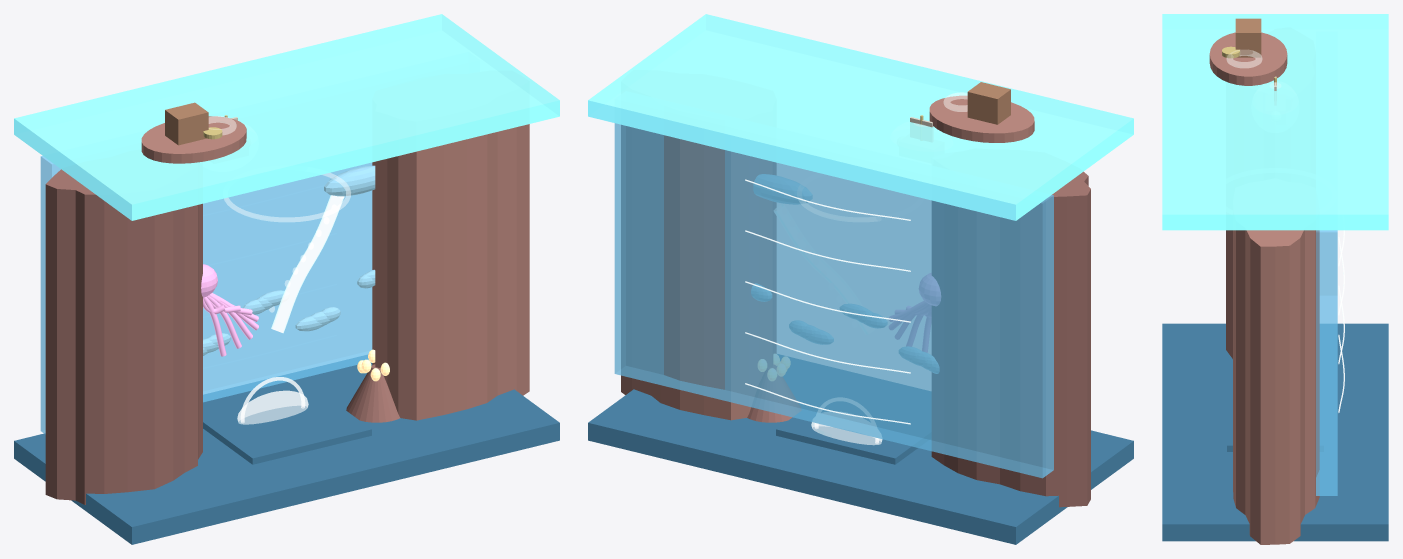
The model's file is fish-man-red-line-descent.glb.
The picture shows the model from 3 angles, left to right: view 1: azimuth 30°, elevation 25°; view 2: azimuth 150°, elevation 25°; view 3: azimuth 270°, elevation 25°; orthographic projection. The views are drawn at different scales.
Visible parts, largest first — view 1: Fish-Man descent surface ocean, Undersea Red Line west wall, Undersea Red Line east wall, Fish-Man descent abyss floor, Fish-Man descent midwater volume, Red Line ten-thousand-meter trench, Sabaody coating yard root platform, Downward plume animated root, Deep-sea volcanic root, Fish-Man Island distant gate, Coating yard tool shed, Undersea light zone whale (+1 smaller); view 2: Fish-Man descent midwater volume, Fish-Man descent surface ocean, Undersea Red Line west wall, Undersea Red Line east wall, Fish-Man descent abyss floor, Red Line ten-thousand-meter trench, Sabaody coating yard root platform, Deep-sea volcanic root, Coating yard tool shed, Downward plume animated root, Fish-Man Island distant gate, Undersea light zone whale; view 3: Fish-Man descent surface ocean, Fish-Man descent abyss floor, Undersea Red Line east wall, Fish-Man descent midwater volume, Sabaody coating yard root platform, Coating yard tool shed, Undersea Red Line west wall, Red Line ten-thousand-meter trench, Coating yard resin vat.
Boxes of the visible parts, x1,y1,x2,y2 form: Fish-Man descent surface ocean: (14,14,559,220); Undersea Red Line west wall: (45,169,202,504); Undersea Red Line east wall: (372,124,529,420); Fish-Man descent abyss floor: (14,355,559,544); Fish-Man descent midwater volume: (40,156,372,434); Red Line ten-thousand-meter trench: (203,392,371,464); Sabaody coating yard root platform: (141,116,246,163); Downward plume animated root: (271,195,344,333); Deep-sea volcanic root: (346,364,399,422); Fish-Man Island distant gate: (237,390,308,424); Coating yard tool shed: (165,102,208,145); Undersea light zone whale: (324,165,375,196); Fish-Man descent midwater volume: (614,123,1053,478); Fish-Man descent surface ocean: (588,14,1133,220); Undersea Red Line west wall: (931,171,1090,507); Undersea Red Line east wall: (621,125,776,420); Fish-Man descent abyss floor: (588,354,1133,544); Red Line ten-thousand-meter trench: (776,393,931,464); Sabaody coating yard root platform: (929,95,1034,142); Deep-sea volcanic root: (747,365,801,422); Coating yard tool shed: (967,82,1010,124); Downward plume animated root: (774,204,874,333); Fish-Man Island distant gate: (811,412,882,445); Undersea light zone whale: (753,174,812,204); Fish-Man descent surface ocean: (1162,14,1388,230); Fish-Man descent abyss floor: (1162,323,1388,541); Undersea Red Line east wall: (1233,230,1319,544); Fish-Man descent midwater volume: (1316,230,1337,495); Sabaody coating yard root platform: (1209,32,1287,85); Coating yard tool shed: (1235,18,1261,57); Undersea Red Line west wall: (1226,230,1232,358); Red Line ten-thousand-meter trench: (1227,390,1323,451); Coating yard resin vat: (1226,50,1262,67).
Bounding box in the file's own units: 19.28 × 15.02 × 8.4.
